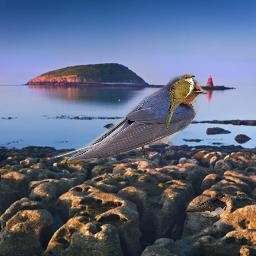Cuckoo: (164, 74, 195, 132)
Swallow: (52, 74, 209, 163), (185, 191, 229, 219)
